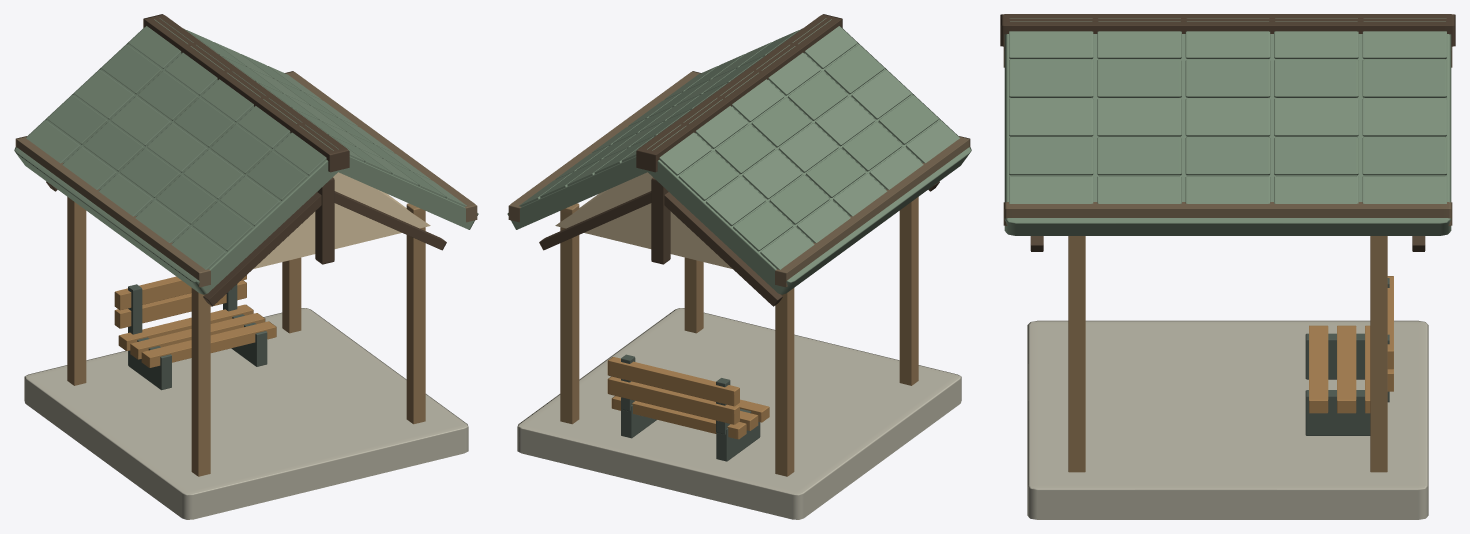
File: gazebo-3.glb
The picture shows the model from 3 angles, left to right: view 1: azimuth 30°, elevation 25°; view 2: azimuth 150°, elevation 25°; view 3: azimuth 270°, elevation 25°; orthographic projection. The views are drawn at different scales.
Visible parts, largest first — view 1: gazebo-3-0; view 2: gazebo-3-0; view 3: gazebo-3-0.
Boxes of the visible parts, x1,y1,x2,y2 form: gazebo-3-0: (14,14,478,519); gazebo-3-0: (507,14,971,519); gazebo-3-0: (1000,14,1455,519).
Bounding box in the file's own units: 1.86 × 2.13 × 2.11.
